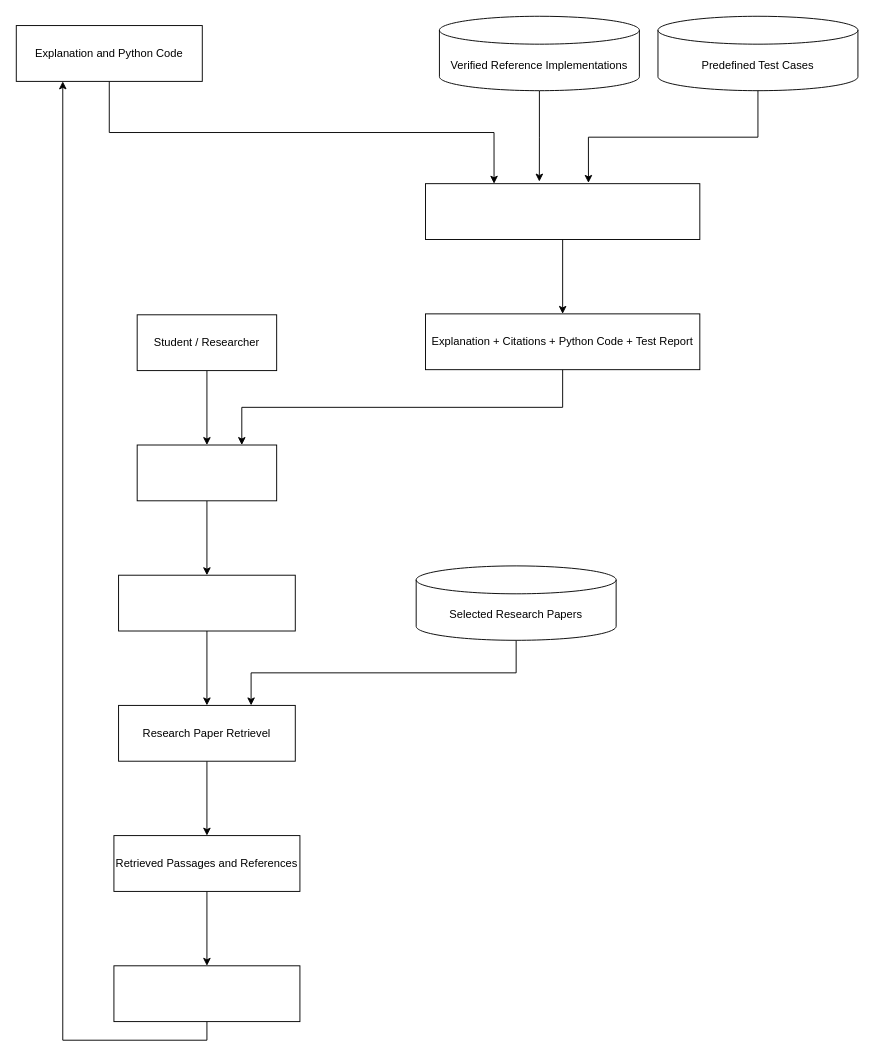
Some shapes in this 874 by 1064 pixel diagram are drawn without their labels. The centre of each missing label's shape, as x and y in pixels:
AI Application Interface: pixel 206 472
Code Validation and Test Runner: pixel 562 211
Language Model: pixel 206 993
Scope and Request Control: pixel 206 602
